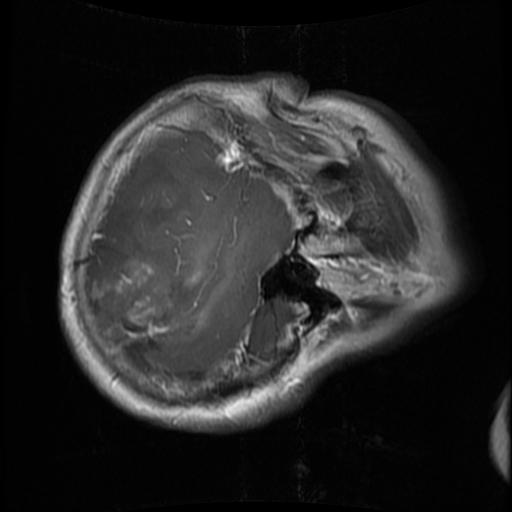glioma: (88, 257, 172, 344)
